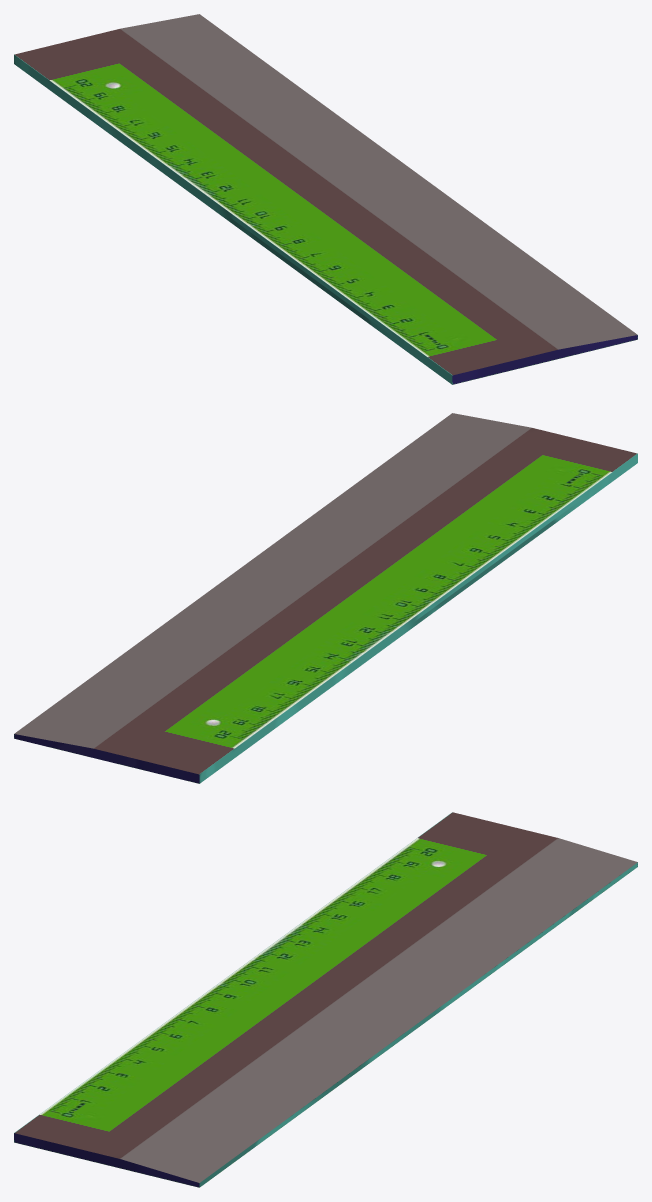
File: lineal.fbx
The picture shows the model from 3 angles, top to bottom: view 1: azimuth 30°, elevation 25°; view 2: azimuth 150°, elevation 25°; view 3: azimuth 330°, elevation 25°; orthographic projection.
Visible parts, largest first — view 1: Cube; view 2: Cube; view 3: Cube.
Boxes of the visible parts, x1,y1,x2,y2 form: Cube: (14,14,637,384); Cube: (14,413,637,783); Cube: (14,812,637,1187).
Bounding box in the file's own units: 2 × 0.097 × 8.18.
